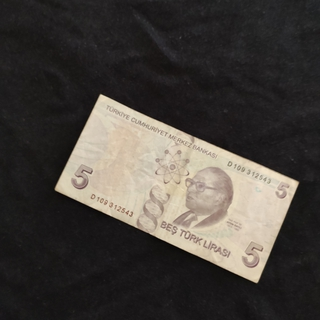5TLBack: (53, 92, 301, 284)
